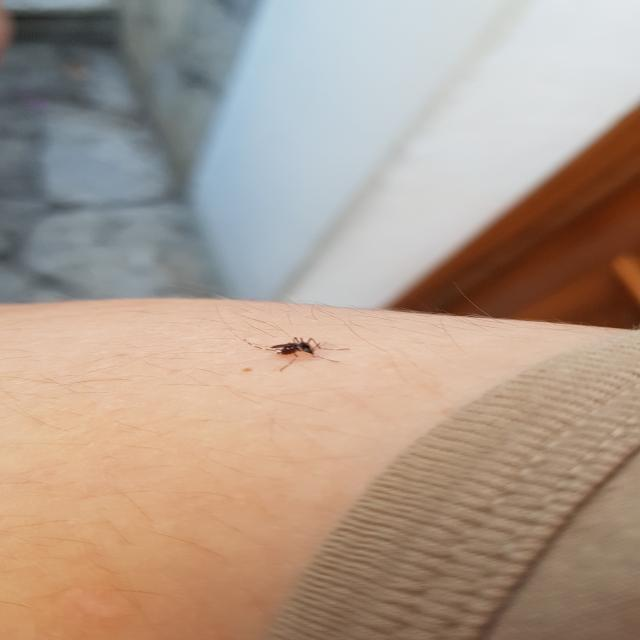albopictus: (234, 322, 354, 374)
